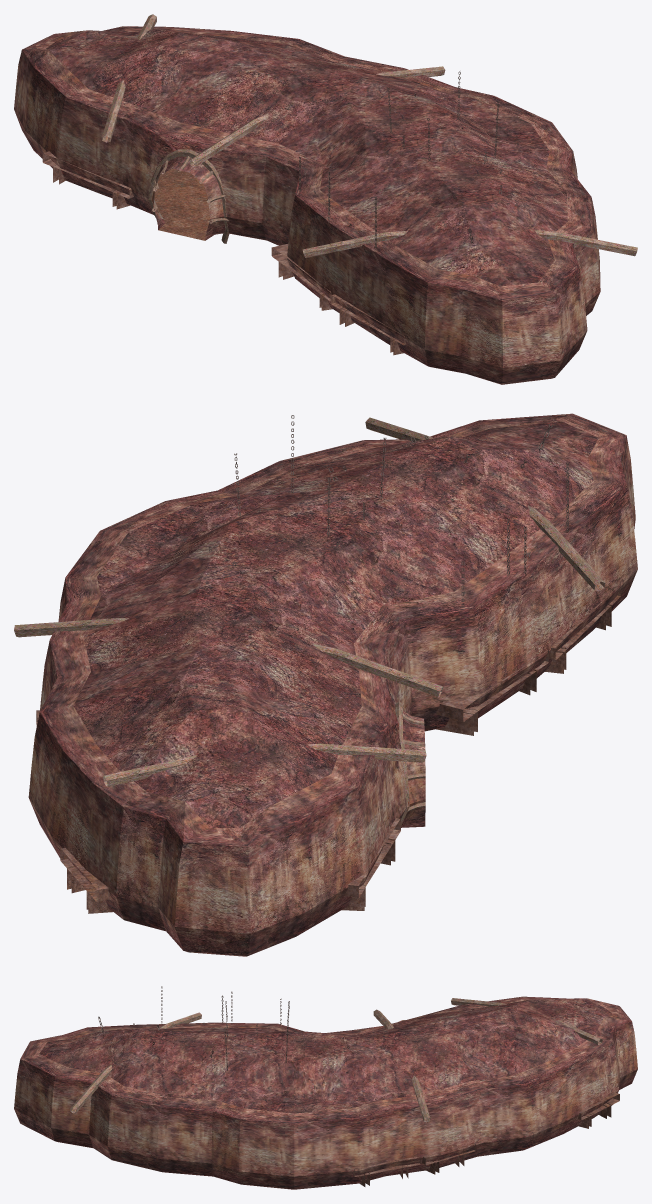
Rendered from thm_dath_night_sister_stronghold_r10_mesh_r10.fbx.
3 renders of one model, top to bottom at view 1: azimuth 30°, elevation 25°; view 2: azimuth 150°, elevation 25°; view 3: azimuth 270°, elevation 25°, orthographic. The views are drawn at different scales.
Parts seen in each view (by area): view 1: mesh_node; view 2: mesh_node; view 3: mesh_node.
Boxes of the visible parts, x1,y1,x2,y2 form: mesh_node: (14,14,637,384); mesh_node: (14,413,637,956); mesh_node: (14,986,637,1189).
Bounding box in the file's own units: 16.62 × 7.75 × 32.4.
